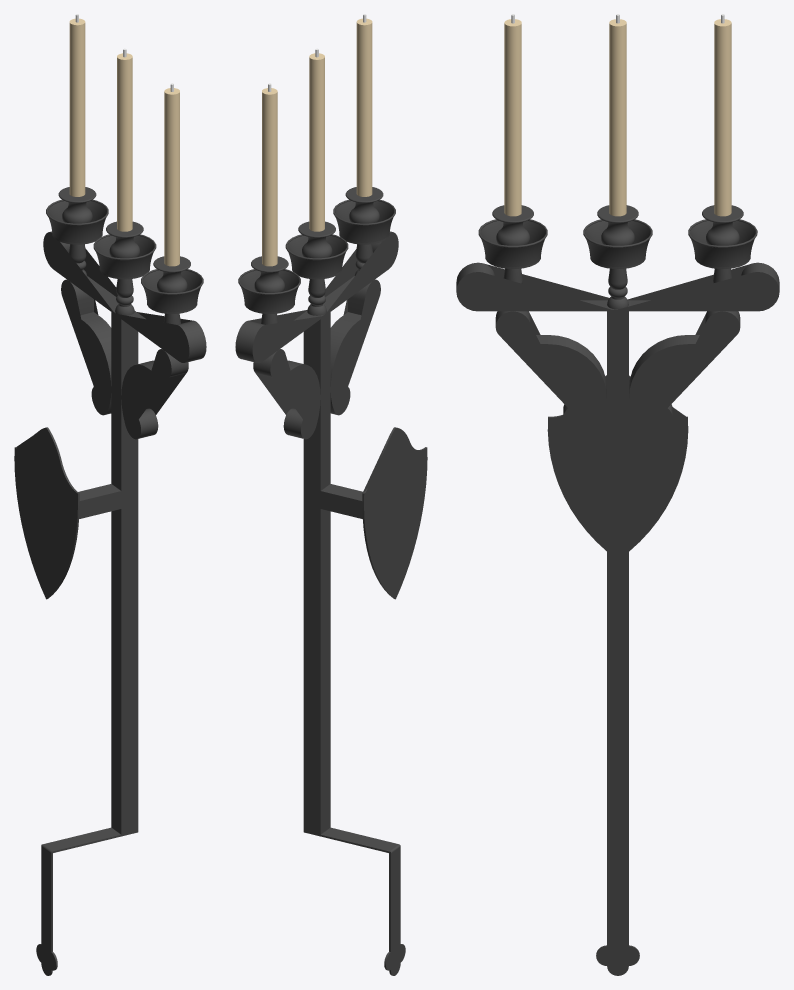
Rendered from Candle_Wrought_Iron_Wall_Sconce.obj.
3 renders of one model, left to right at view 1: azimuth 30°, elevation 25°; view 2: azimuth 150°, elevation 25°; view 3: azimuth 270°, elevation 25°, orthographic. The views are drawn at different scales.
Visible parts, largest first — view 1: Mesh3 Group4 Group1 Wrought_Iron_Wall_Sconce1 Model, Mesh1 Group2 Group1 Wrought_Iron_Wall_Sconce1 Model, Mesh9 Group12 Group11 Group6 Wrought_Iron_Wall_Sconce1 Model, Mesh10 Group13 Group11 Group6 Wrought_Iron_Wall_Sconce1 Model, Mesh6 Group8 Group6 Wrought_Iron_Wall_Sconce1 Model, Mesh5 Group7 Group6 Wrought_Iron_Wall_Sconce1 Model, Mesh13 Group16 Group6 Wrought_Iron_Wall_Sconce1 Model, Mesh11 Group14 Group6 Wrought_Iron_Wall_Sconce1 Model, Mesh14 Group17 Group6 Wrought_Iron_Wall_Sconce1 Model, Mesh7 Group9 Group6 Wrought_Iron_Wall_Sconce1 Model, Mesh4 Group5 Wrought_Iron_Wall_Sconce1 Model, Mesh2 Group3 Group1 Wrought_Iron_Wall_Sconce1 Model (+1 smaller); view 2: Mesh3 Group4 Group1 Wrought_Iron_Wall_Sconce1 Model, Mesh1 Group2 Group1 Wrought_Iron_Wall_Sconce1 Model, Mesh10 Group13 Group11 Group6 Wrought_Iron_Wall_Sconce1 Model, Mesh9 Group12 Group11 Group6 Wrought_Iron_Wall_Sconce1 Model, Mesh5 Group7 Group6 Wrought_Iron_Wall_Sconce1 Model, Mesh6 Group8 Group6 Wrought_Iron_Wall_Sconce1 Model, Mesh13 Group16 Group6 Wrought_Iron_Wall_Sconce1 Model, Mesh11 Group14 Group6 Wrought_Iron_Wall_Sconce1 Model, Mesh7 Group9 Group6 Wrought_Iron_Wall_Sconce1 Model, Mesh14 Group17 Group6 Wrought_Iron_Wall_Sconce1 Model, Mesh4 Group5 Wrought_Iron_Wall_Sconce1 Model, Mesh2 Group3 Group1 Wrought_Iron_Wall_Sconce1 Model (+1 smaller); view 3: Mesh3 Group4 Group1 Wrought_Iron_Wall_Sconce1 Model, Mesh9 Group12 Group11 Group6 Wrought_Iron_Wall_Sconce1 Model, Mesh10 Group13 Group11 Group6 Wrought_Iron_Wall_Sconce1 Model, Mesh1 Group2 Group1 Wrought_Iron_Wall_Sconce1 Model, Mesh5 Group7 Group6 Wrought_Iron_Wall_Sconce1 Model, Mesh6 Group8 Group6 Wrought_Iron_Wall_Sconce1 Model, Mesh13 Group16 Group6 Wrought_Iron_Wall_Sconce1 Model, Mesh11 Group14 Group6 Wrought_Iron_Wall_Sconce1 Model, Mesh14 Group17 Group6 Wrought_Iron_Wall_Sconce1 Model, Mesh7 Group9 Group6 Wrought_Iron_Wall_Sconce1 Model, Mesh4 Group5 Wrought_Iron_Wall_Sconce1 Model, Mesh12 Group15 Group6 Wrought_Iron_Wall_Sconce1 Model.
Part boxes in pixels (x1,y1,x2,y2): Mesh3 Group4 Group1 Wrought_Iron_Wall_Sconce1 Model: [111, 312, 138, 834]; Mesh1 Group2 Group1 Wrought_Iron_Wall_Sconce1 Model: [14, 427, 79, 599]; Mesh9 Group12 Group11 Group6 Wrought_Iron_Wall_Sconce1 Model: [116, 311, 206, 439]; Mesh10 Group13 Group11 Group6 Wrought_Iron_Wall_Sconce1 Model: [43, 231, 118, 415]; Mesh6 Group8 Group6 Wrought_Iron_Wall_Sconce1 Model: [69, 14, 85, 196]; Mesh5 Group7 Group6 Wrought_Iron_Wall_Sconce1 Model: [164, 83, 179, 266]; Mesh13 Group16 Group6 Wrought_Iron_Wall_Sconce1 Model: [117, 48, 132, 231]; Mesh11 Group14 Group6 Wrought_Iron_Wall_Sconce1 Model: [93, 221, 156, 279]; Mesh14 Group17 Group6 Wrought_Iron_Wall_Sconce1 Model: [141, 256, 203, 313]; Mesh7 Group9 Group6 Wrought_Iron_Wall_Sconce1 Model: [46, 187, 108, 244]; Mesh4 Group5 Wrought_Iron_Wall_Sconce1 Model: [36, 827, 138, 975]; Mesh2 Group3 Group1 Wrought_Iron_Wall_Sconce1 Model: [78, 484, 121, 518]; Mesh3 Group4 Group1 Wrought_Iron_Wall_Sconce1 Model: [303, 312, 330, 834]; Mesh1 Group2 Group1 Wrought_Iron_Wall_Sconce1 Model: [362, 427, 427, 599]; Mesh10 Group13 Group11 Group6 Wrought_Iron_Wall_Sconce1 Model: [235, 310, 325, 439]; Mesh9 Group12 Group11 Group6 Wrought_Iron_Wall_Sconce1 Model: [323, 231, 398, 415]; Mesh5 Group7 Group6 Wrought_Iron_Wall_Sconce1 Model: [356, 14, 372, 196]; Mesh6 Group8 Group6 Wrought_Iron_Wall_Sconce1 Model: [262, 83, 277, 266]; Mesh13 Group16 Group6 Wrought_Iron_Wall_Sconce1 Model: [309, 48, 324, 231]; Mesh11 Group14 Group6 Wrought_Iron_Wall_Sconce1 Model: [285, 221, 348, 279]; Mesh7 Group9 Group6 Wrought_Iron_Wall_Sconce1 Model: [238, 256, 300, 313]; Mesh14 Group17 Group6 Wrought_Iron_Wall_Sconce1 Model: [333, 187, 395, 244]; Mesh4 Group5 Wrought_Iron_Wall_Sconce1 Model: [303, 827, 405, 975]; Mesh2 Group3 Group1 Wrought_Iron_Wall_Sconce1 Model: [320, 484, 362, 518]; Mesh3 Group4 Group1 Wrought_Iron_Wall_Sconce1 Model: [607, 311, 628, 881]; Mesh9 Group12 Group11 Group6 Wrought_Iron_Wall_Sconce1 Model: [456, 262, 617, 433]; Mesh10 Group13 Group11 Group6 Wrought_Iron_Wall_Sconce1 Model: [618, 262, 779, 433]; Mesh1 Group2 Group1 Wrought_Iron_Wall_Sconce1 Model: [547, 375, 688, 551]; Mesh5 Group7 Group6 Wrought_Iron_Wall_Sconce1 Model: [504, 14, 521, 216]; Mesh6 Group8 Group6 Wrought_Iron_Wall_Sconce1 Model: [714, 14, 731, 216]; Mesh13 Group16 Group6 Wrought_Iron_Wall_Sconce1 Model: [609, 14, 626, 216]; Mesh11 Group14 Group6 Wrought_Iron_Wall_Sconce1 Model: [583, 205, 652, 268]; Mesh14 Group17 Group6 Wrought_Iron_Wall_Sconce1 Model: [478, 205, 547, 268]; Mesh7 Group9 Group6 Wrought_Iron_Wall_Sconce1 Model: [688, 205, 757, 268]; Mesh4 Group5 Wrought_Iron_Wall_Sconce1 Model: [596, 881, 639, 975]; Mesh12 Group15 Group6 Wrought_Iron_Wall_Sconce1 Model: [607, 268, 628, 309].
Bounding box in the file's own units: 7.73 × 63.32 × 18.5.
